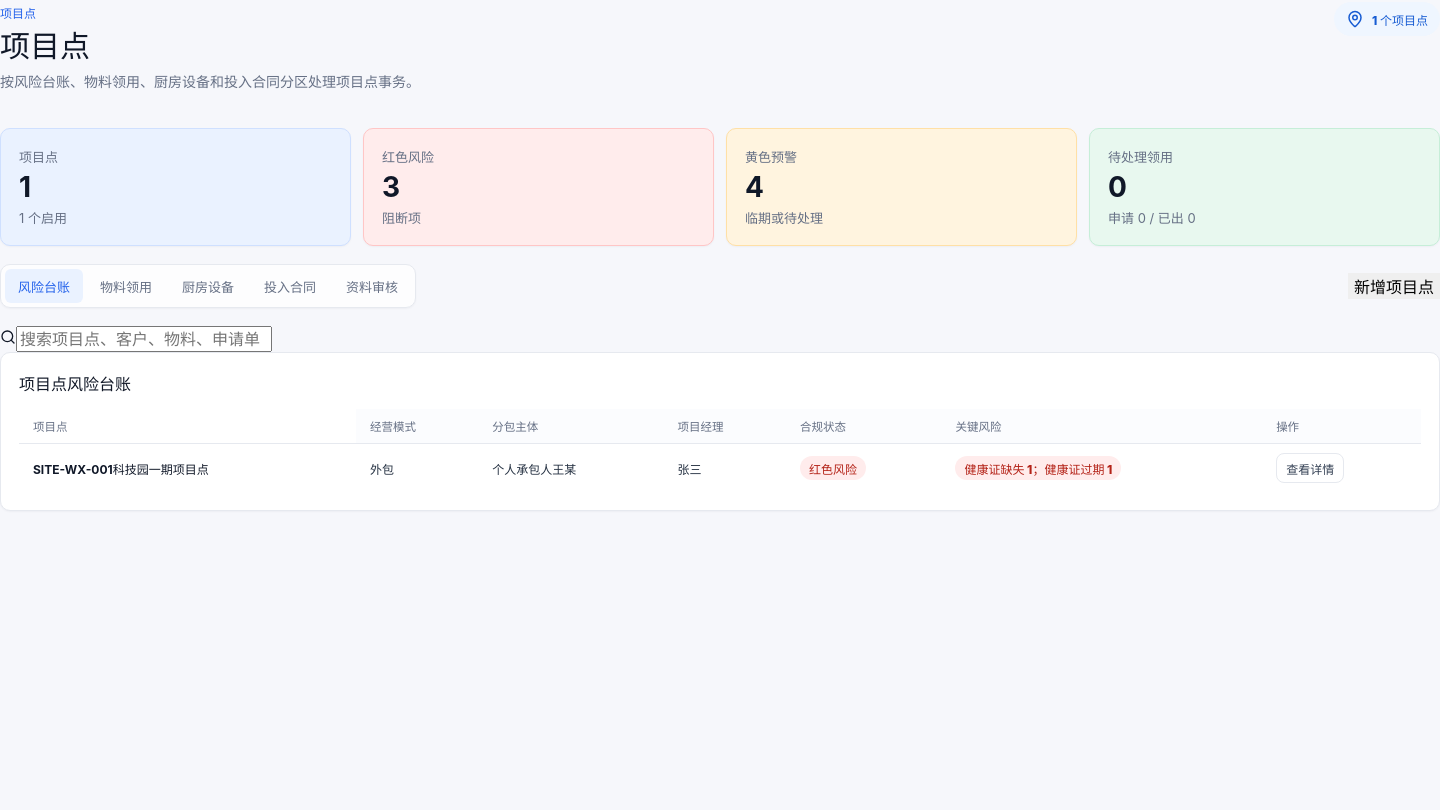
Test: Company ERP workspace components › renders a single project-site risk table with compliance status and opens details
Check: the heading "项目点风险台账" is shown, box [19,372,131,396]
Check: the text "个人承包人王某" is shown, box [478,444,664,492]
Click the button "查看详情" at (1310,468), box [1276,454,1344,484]
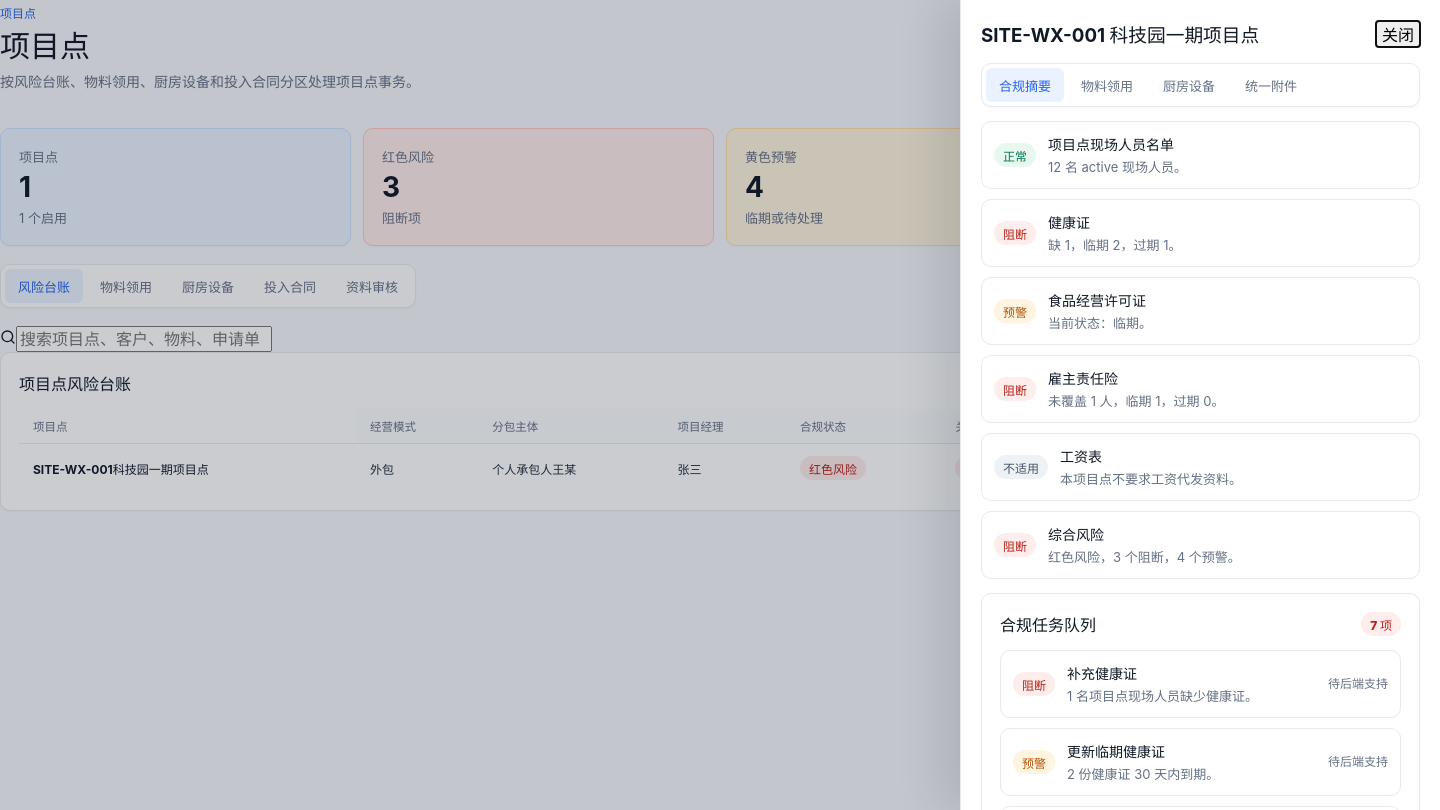
Check: the heading "合规任务队列" is shown, box [1000,612,1096,636]
